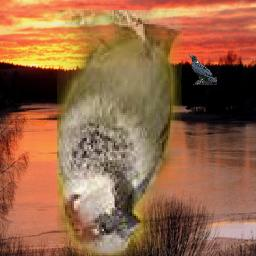Crow: (189, 55, 218, 86)
Sparrow: (58, 10, 183, 256)
